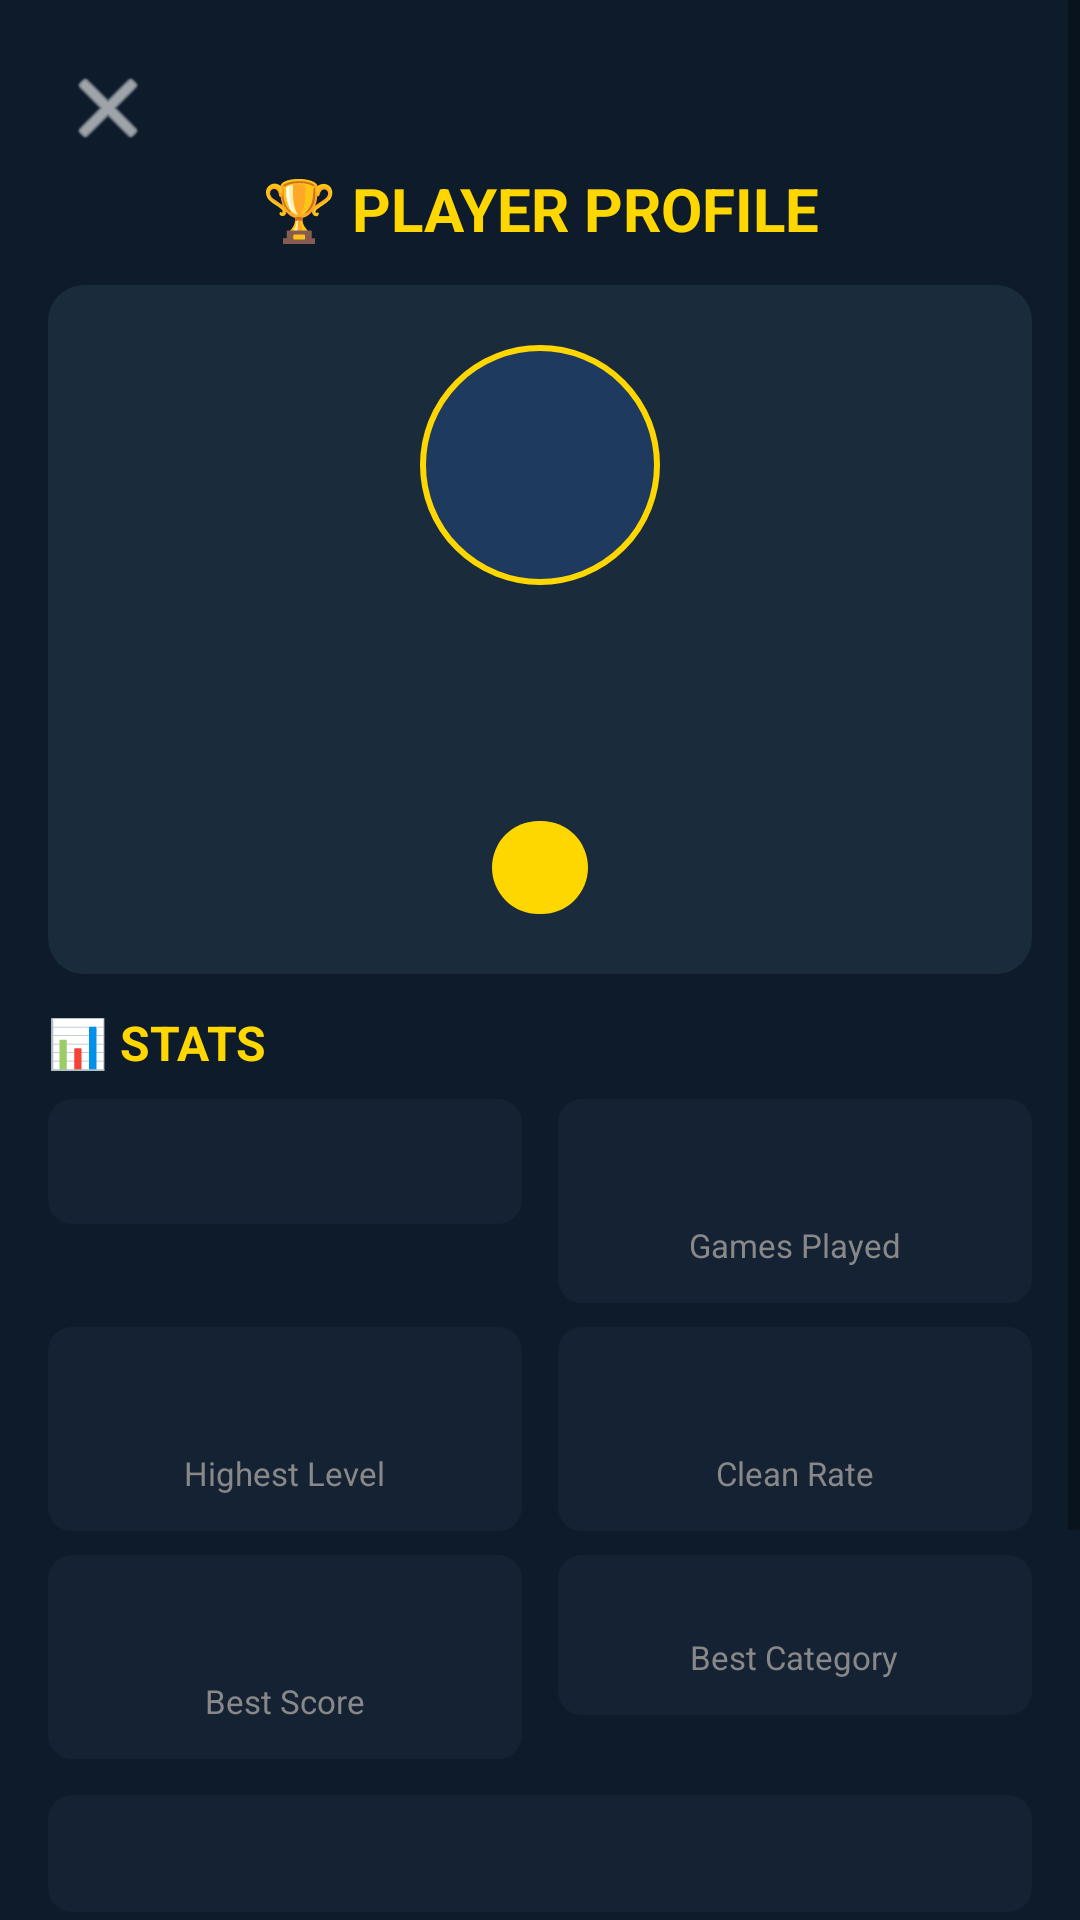

Named icons in this screenshot (1080×1920) and their bounding boxes, box(x1, y1, x2, y2):
close clear cancel: box(78, 78, 138, 138)
